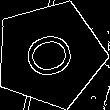O_E: (18, 27, 81, 82)
